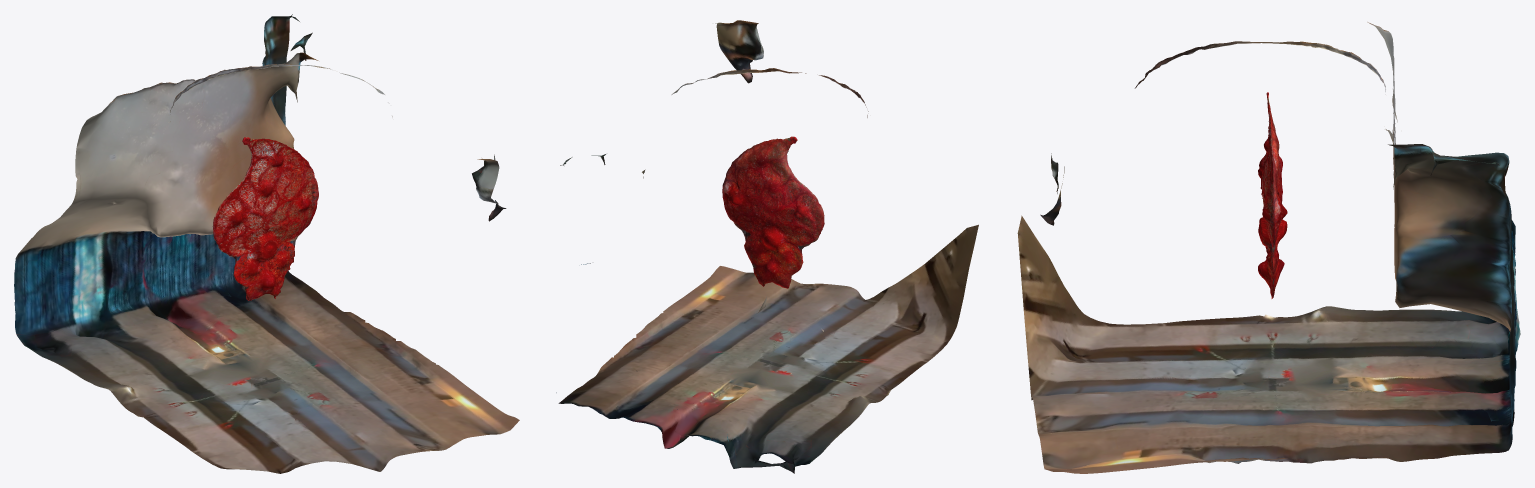
3 views of the same model, side by side, from view 1: azimuth 30°, elevation 25°; view 2: azimuth 150°, elevation 25°; view 3: azimuth 270°, elevation 25° (orthographic). The views are drawn at different scales.
Visible parts, largest first — view 1: Node; view 2: Node; view 3: Node.
Boxes of the visible parts, x1=… form: Node: x1=14, y1=14, x2=519, y2=473; Node: x1=556, y1=20, x2=978, y2=473; Node: x1=1017, y1=22, x2=1520, y2=473.
Size of the model in its own units: 1.45 by 1.38 by 1.93.
Materials: 1 (1 with a texture image).
